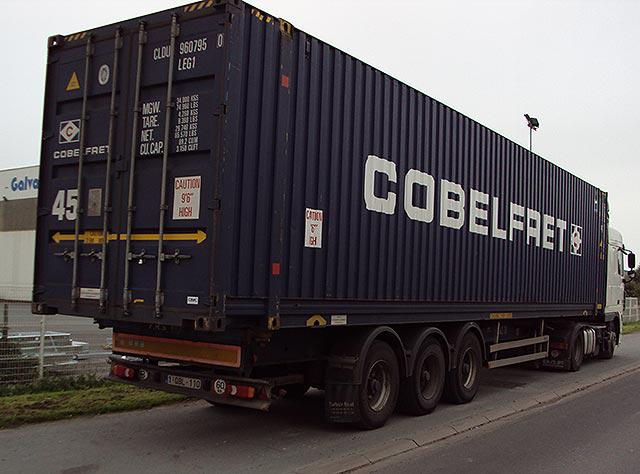ContainerNum: (151, 32, 225, 72)
